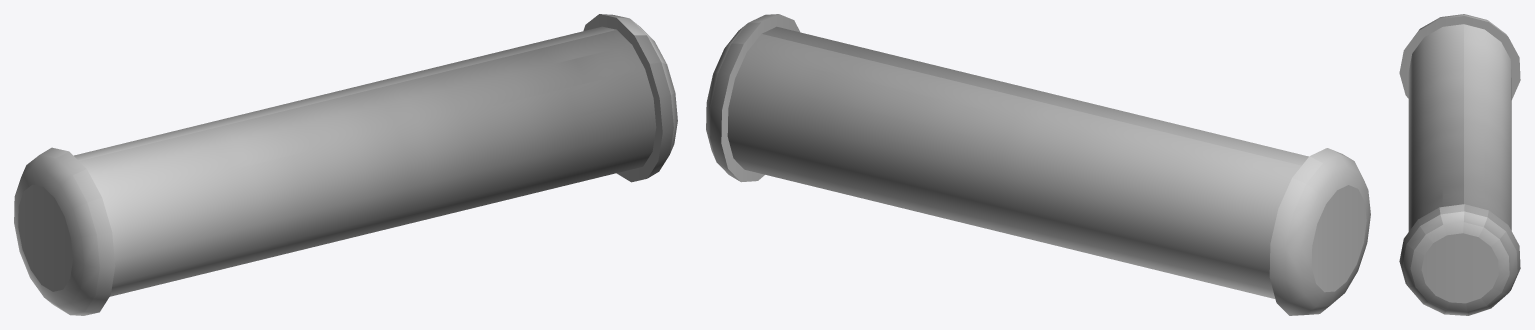
File: original-12.obj
3 renders of one model, left to right at view 1: azimuth 30°, elevation 25°; view 2: azimuth 150°, elevation 25°; view 3: azimuth 270°, elevation 25°, orthographic. The views are drawn at different scales.
Parts seen in each view (by area): view 1: Component_10_1/Component_10/mesh14/mesh14-geometry#mesh14-geomet; view 2: Component_10_1/Component_10/mesh14/mesh14-geometry#mesh14-geomet; view 3: Component_10_1/Component_10/mesh14/mesh14-geometry#mesh14-geomet.
Part boxes in pixels (x1,y1,x2,y2): Component_10_1/Component_10/mesh14/mesh14-geometry#mesh14-geomet: (14, 14, 677, 315); Component_10_1/Component_10/mesh14/mesh14-geometry#mesh14-geomet: (706, 14, 1370, 315); Component_10_1/Component_10/mesh14/mesh14-geometry#mesh14-geomet: (1399, 14, 1520, 315).
Bounding box in the file's own units: 0.0301 × 0.00747 × 0.00746.
